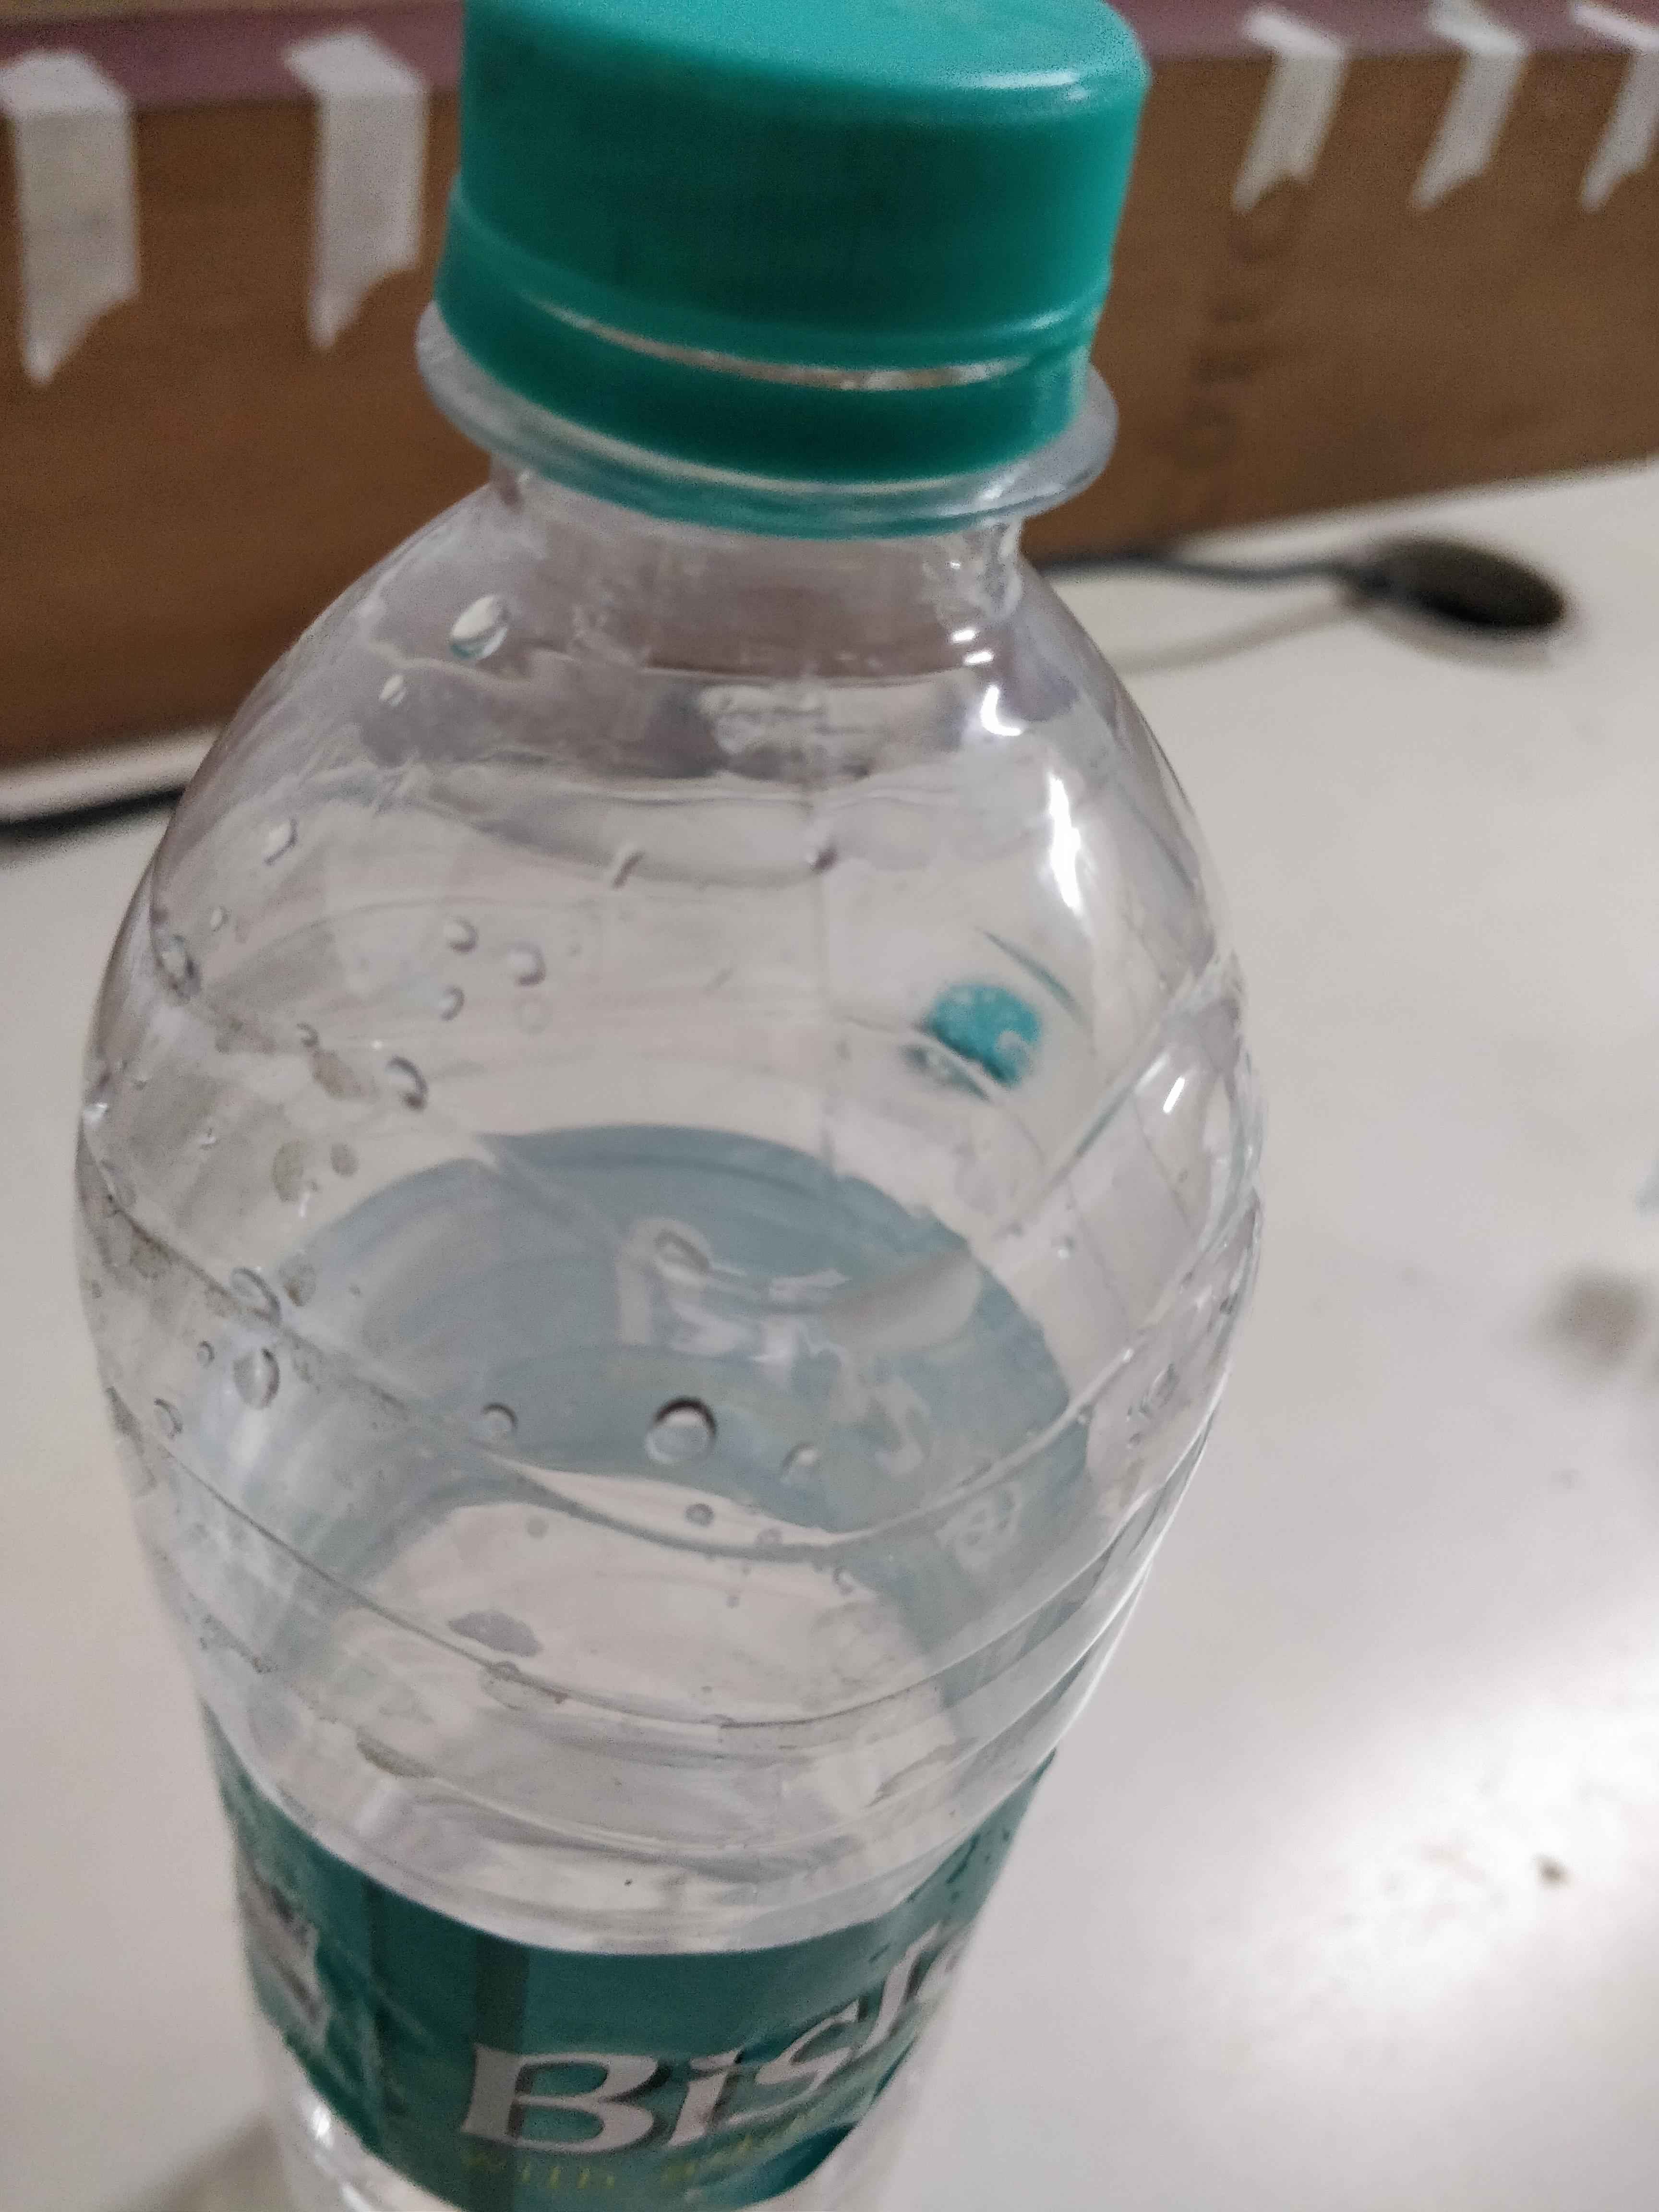Bisleri: (415, 1947, 983, 2195)
